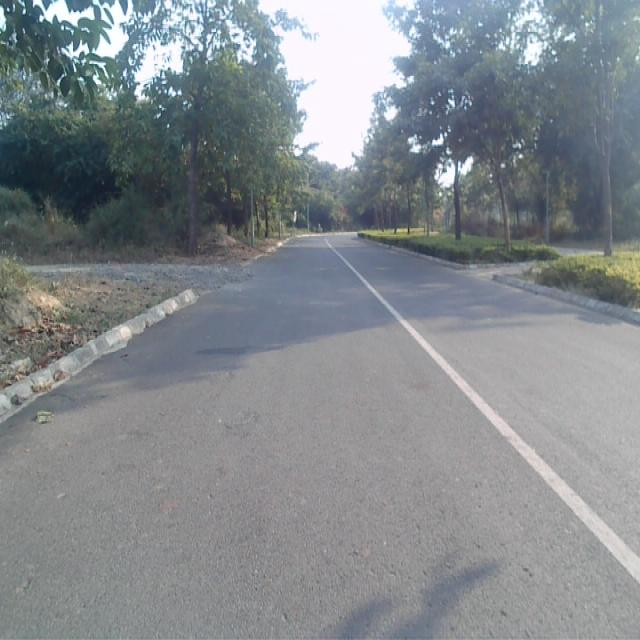lane: (0, 238, 640, 640)
